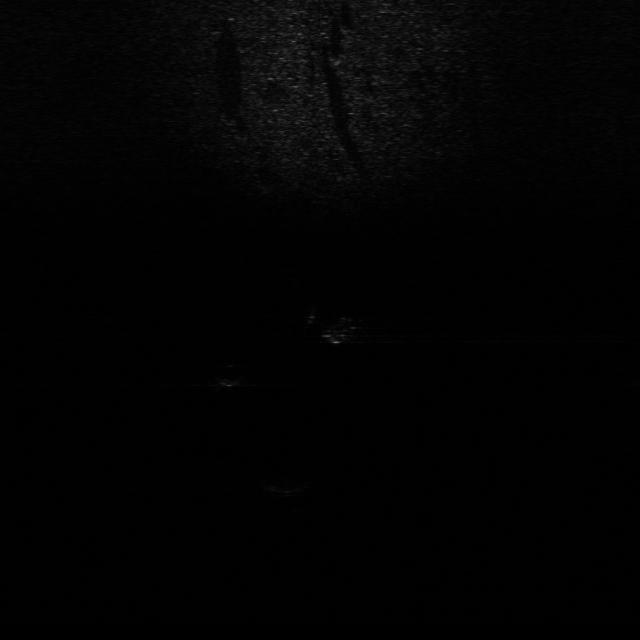ball: (212, 360, 252, 388)
circle cage: (252, 467, 319, 497)
human body: (304, 303, 374, 347)
